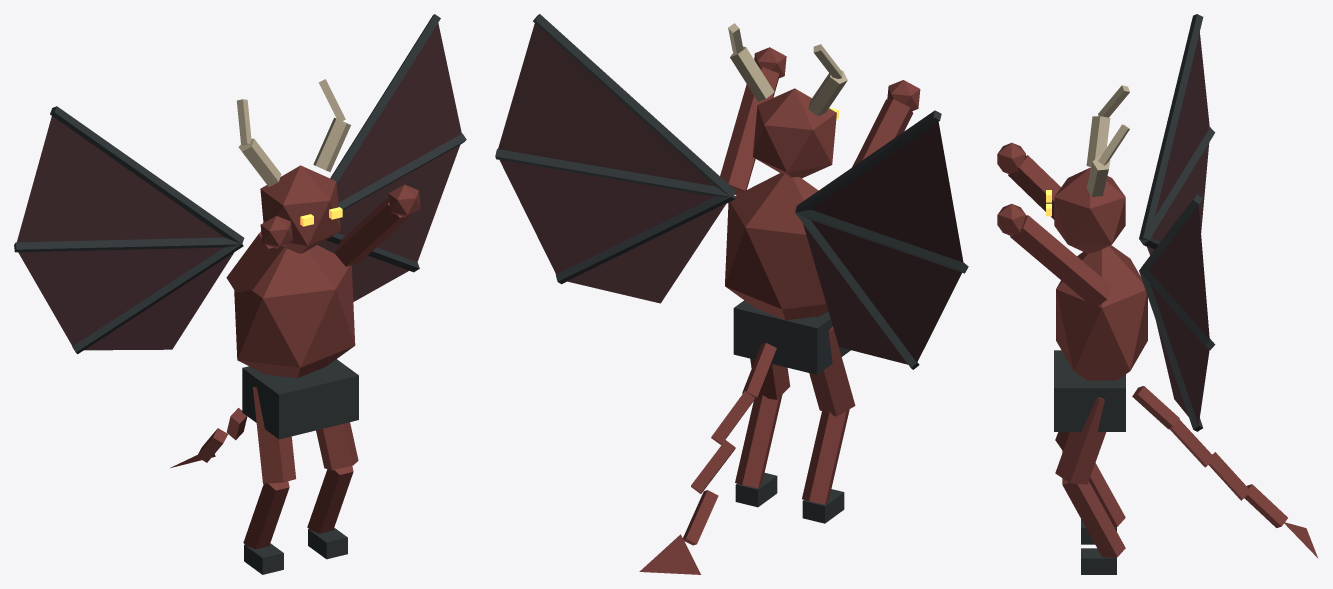
Rendered from demon.glb.
3 views of the same model, side by side, from view 1: azimuth 30°, elevation 25°; view 2: azimuth 150°, elevation 25°; view 3: azimuth 270°, elevation 25° (orthographic). The views are drawn at different scales.
Parts seen in each view (by area): view 1: bat wing membrane, demon chest, bat wing membrane.001, bat wing membrane.003, loincloth, bat wing membrane.004, demon head, bat wing membrane.002, wing bone, wing bone.001, gripping arm.001, goat thigh (+15 smaller); view 2: bat wing membrane.003, bat wing membrane.004, demon chest, bat wing membrane, bat wing membrane.001, demon head, bat wing membrane.005, loincloth, bat wing membrane.002, wing bone.003, gripping arm.001, wing bone.004 (+20 smaller); view 3: demon chest, demon head, loincloth, bat wing membrane.003, gripping arm.001, bat wing membrane, bat wing membrane.004, wing bone, goat thigh.001, goat shank.001, bat wing membrane.001, gripping arm (+17 smaller).
Part boxes in pixels (bbox=[...]): bat wing membrane: bbox=[17, 116, 224, 242]; demon chest: bbox=[234, 245, 355, 378]; bat wing membrane.001: bbox=[18, 247, 223, 346]; bat wing membrane.003: bbox=[336, 23, 461, 202]; loincloth: bbox=[242, 359, 358, 439]; bat wing membrane.004: bbox=[338, 145, 460, 262]; demon head: bbox=[260, 165, 340, 253]; bat wing membrane.002: bbox=[84, 253, 233, 350]; wing bone: bbox=[50, 106, 244, 243]; wing bone.001: bbox=[14, 237, 241, 252]; gripping arm.001: bbox=[334, 197, 413, 266]; goat thigh: bbox=[253, 387, 296, 483]; bat wing membrane.003: bbox=[498, 23, 715, 186]; bat wing membrane.004: bbox=[499, 159, 714, 274]; demon chest: bbox=[725, 173, 828, 320]; bat wing membrane: bbox=[811, 122, 963, 262]; bat wing membrane.001: bbox=[811, 220, 961, 362]; demon head: bbox=[753, 88, 836, 178]; bat wing membrane.005: bbox=[567, 203, 726, 303]; loincloth: bbox=[733, 300, 850, 374]; bat wing membrane.002: bbox=[803, 224, 907, 364]; wing bone.003: bbox=[533, 14, 735, 196]; gripping arm.001: bbox=[720, 67, 779, 194]; wing bone.004: bbox=[495, 149, 730, 196]; demon chest: bbox=[1056, 245, 1147, 380]; demon head: bbox=[1054, 168, 1125, 253]; loincloth: bbox=[1054, 350, 1125, 431]; bat wing membrane.003: bbox=[1149, 205, 1209, 339]; gripping arm.001: bbox=[1010, 215, 1112, 308]; bat wing membrane: bbox=[1155, 32, 1209, 216]; bat wing membrane.004: bbox=[1150, 284, 1209, 424]; wing bone: bbox=[1139, 14, 1203, 239]; goat thigh.001: bbox=[1055, 397, 1106, 484]; goat shank.001: bbox=[1062, 478, 1125, 558]; bat wing membrane.001: bbox=[1151, 143, 1209, 241]; gripping arm: bbox=[1008, 155, 1060, 219].
Bounding box in the file's own units: 0.8453 × 0.8268 × 0.5338.
